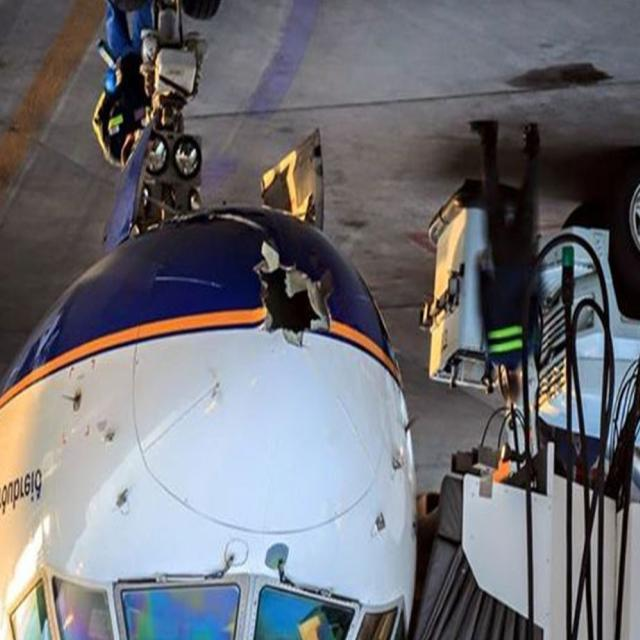crack: (250, 232, 339, 357)
